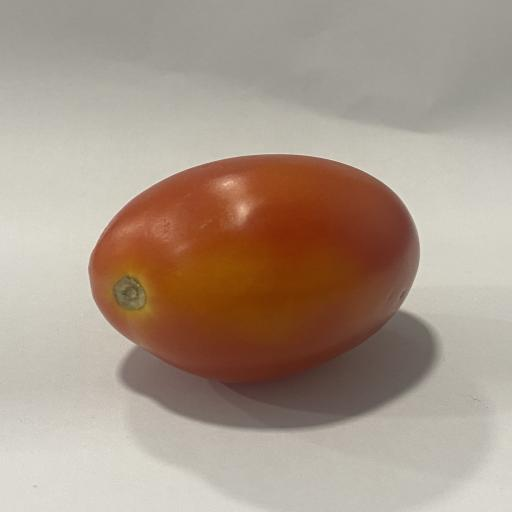ripe: (89, 154, 419, 382)
